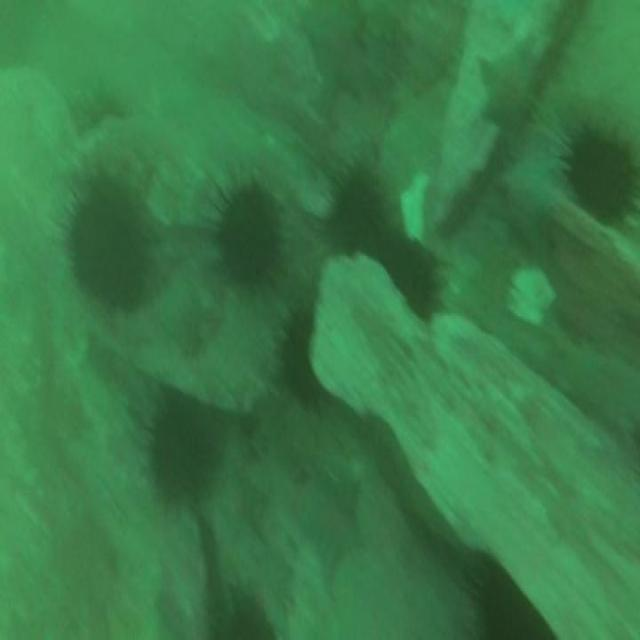echinus: (71, 176, 146, 308), (146, 406, 214, 506), (568, 133, 635, 223), (218, 185, 277, 278), (385, 229, 436, 313), (332, 166, 378, 256), (283, 310, 321, 401)
starfish: (306, 8, 365, 107), (306, 482, 362, 575), (480, 41, 533, 133)
